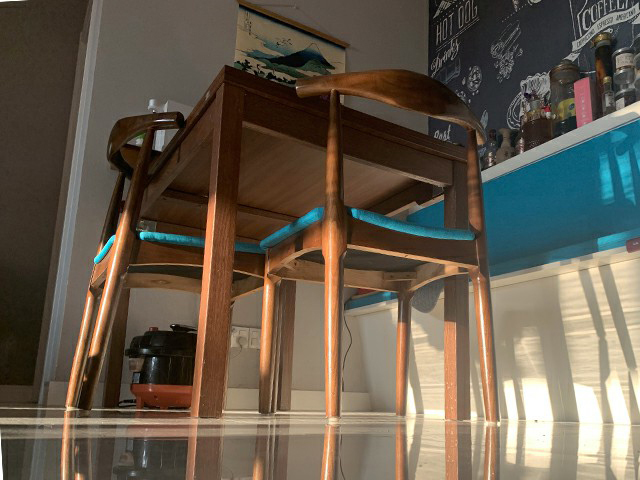stool: (258, 69, 501, 424), (64, 111, 280, 414)
table: (101, 64, 473, 421)
